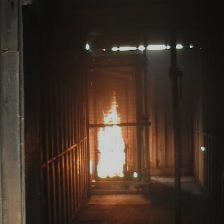fire: (90, 95, 129, 177)
